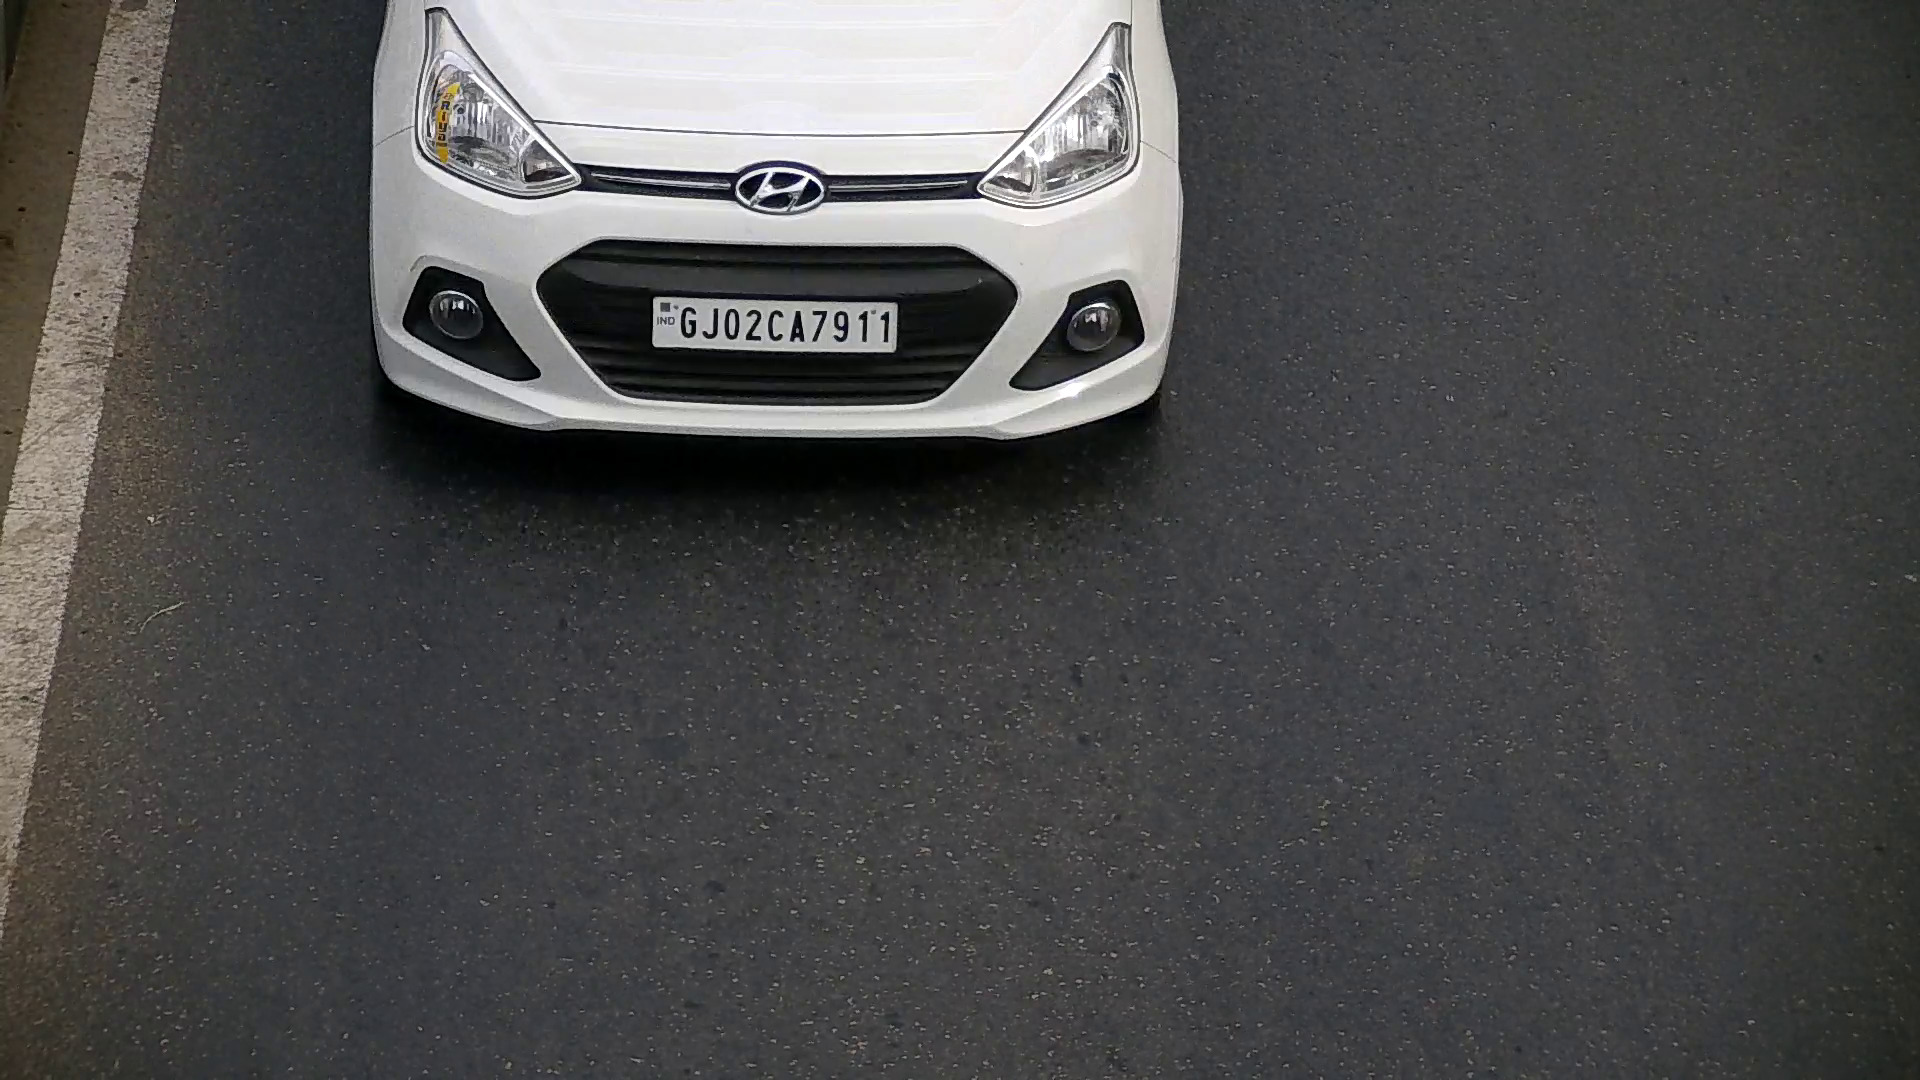numberplate: (646, 291, 903, 353)
